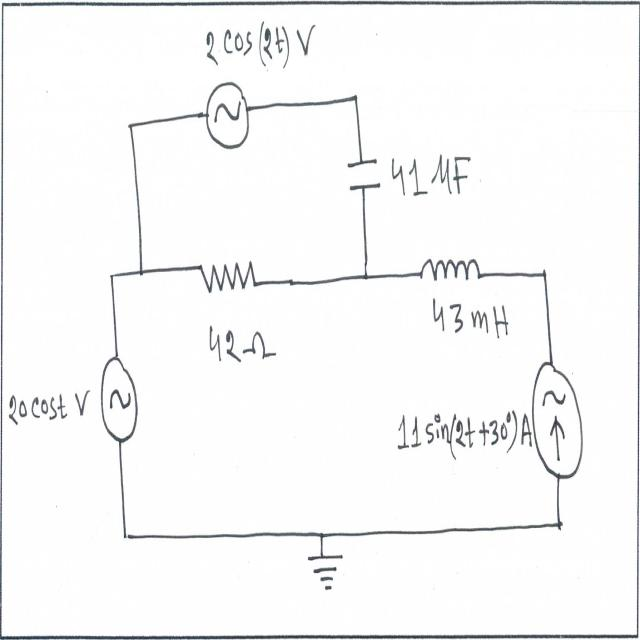ac_current: (99, 350, 139, 450), (203, 79, 254, 156)
capacitor: (345, 150, 383, 197)
current_source: (530, 358, 588, 480)
ground: (306, 543, 348, 596)
inductor: (416, 249, 482, 291)
resistor: (197, 250, 258, 306)
